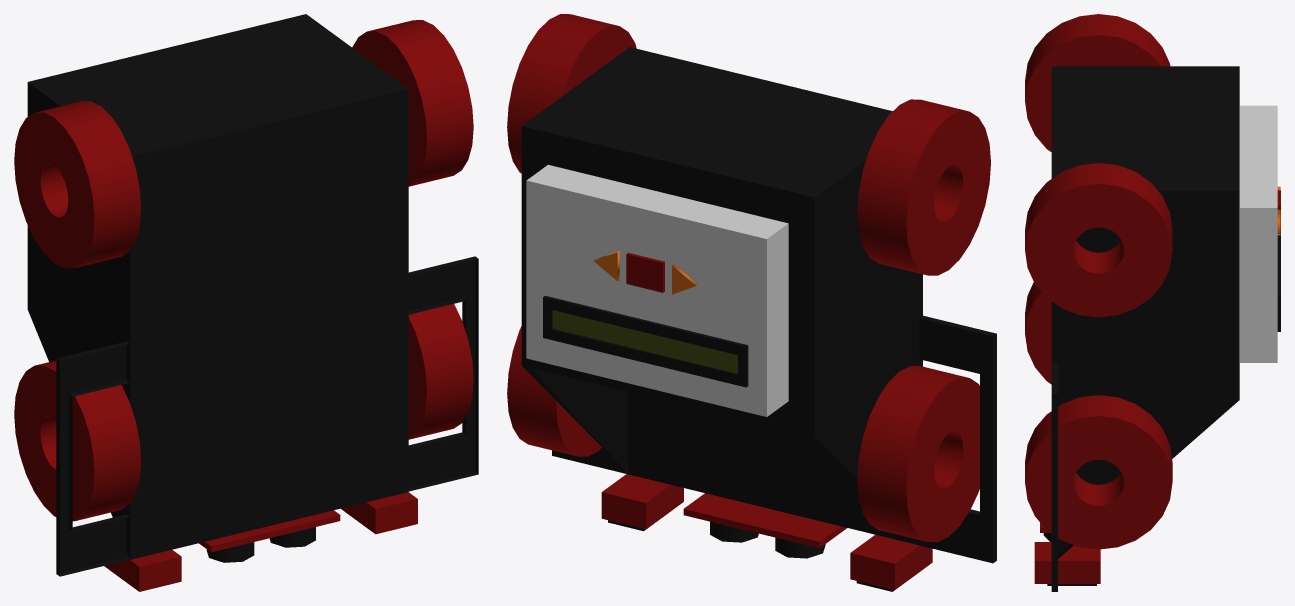
The model's file is Robot-3.FBX.
3 views of the same model, side by side, from view 1: azimuth 30°, elevation 25°; view 2: azimuth 150°, elevation 25°; view 3: azimuth 270°, elevation 25° (orthographic). The views are drawn at different scales.
Visible parts, largest first — view 1: Body, Wheels, Sensor 3, Sensor 1, Sensor 2; view 2: Body, Wheels, Sensor 3, Sensor 1, Sensor 2; view 3: Body, Wheels, Sensor 2.
Part boxes in pixels (x1,y1,x2,y2): Body: (27, 14, 478, 576); Wheels: (14, 20, 473, 521); Sensor 3: (199, 510, 340, 562); Sensor 1: (104, 550, 181, 591); Sensor 2: (341, 492, 417, 534); Body: (521, 47, 996, 563); Wheels: (507, 14, 990, 542); Sensor 3: (683, 493, 846, 558); Sensor 1: (850, 534, 932, 591); Sensor 2: (601, 474, 683, 531); Body: (1051, 66, 1280, 591); Wheels: (1025, 14, 1172, 549); Sensor 2: (1034, 542, 1100, 585).
Bounding box in the file's own units: 18.94 × 20.09 × 10.93.
